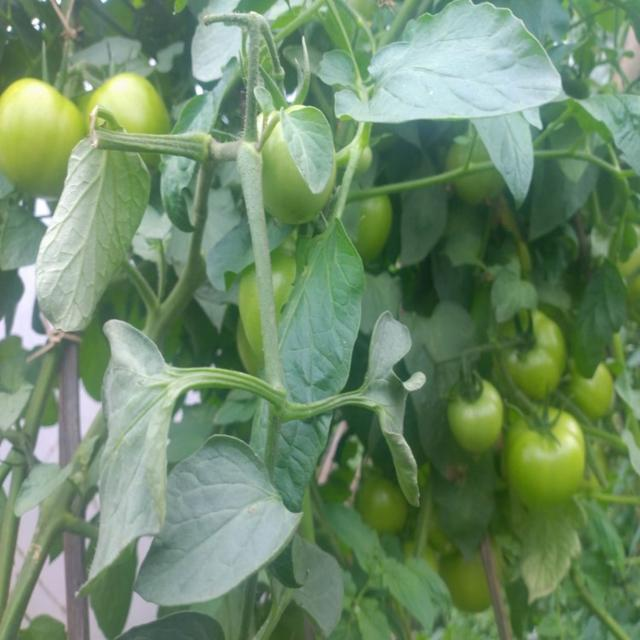tomato: (3, 77, 81, 187), (504, 411, 587, 514), (499, 313, 567, 391), (445, 380, 508, 463), (93, 80, 169, 137), (230, 273, 270, 367), (353, 469, 398, 541), (262, 154, 306, 227), (448, 546, 492, 616), (357, 201, 405, 257), (582, 369, 621, 418), (458, 171, 495, 210)
